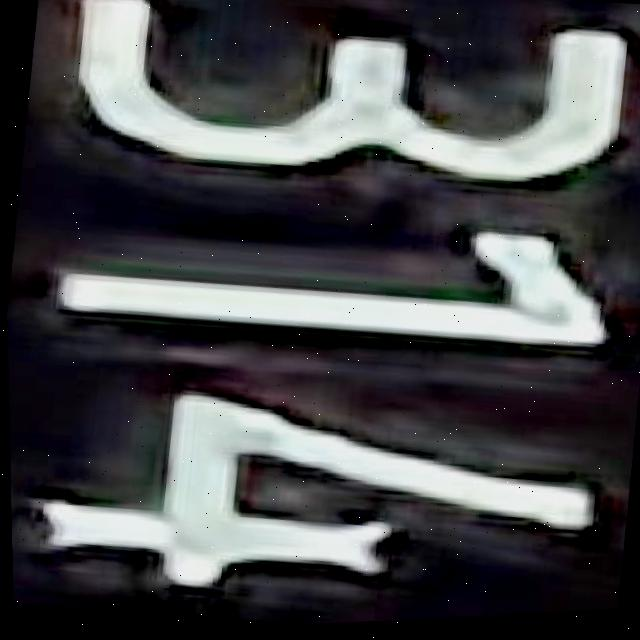character: (8, 341, 616, 640), (44, 0, 640, 243), (36, 166, 628, 400)
